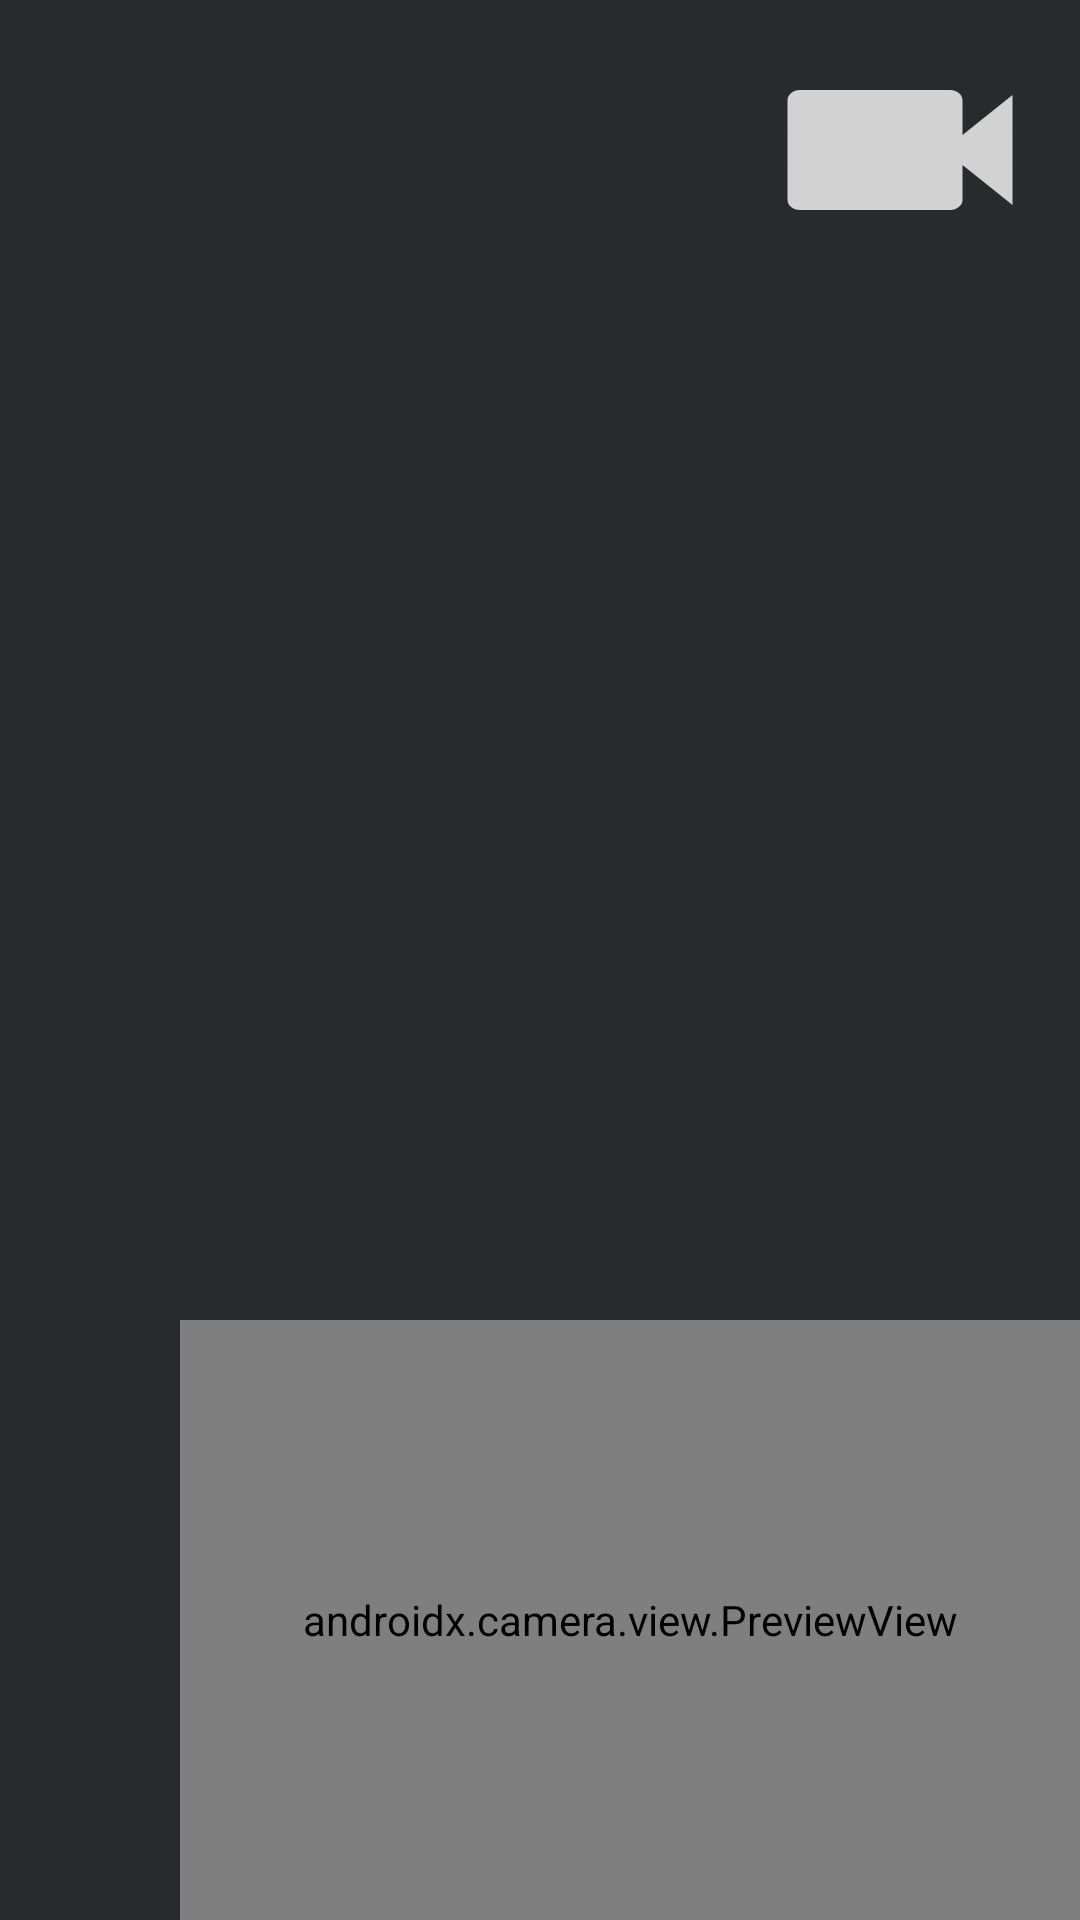

Icon bounding boxes for this 1080w x 1920h phone screenshot, format (x1,y1,x2,y2):
streamvid: (787,90,1013,210)
